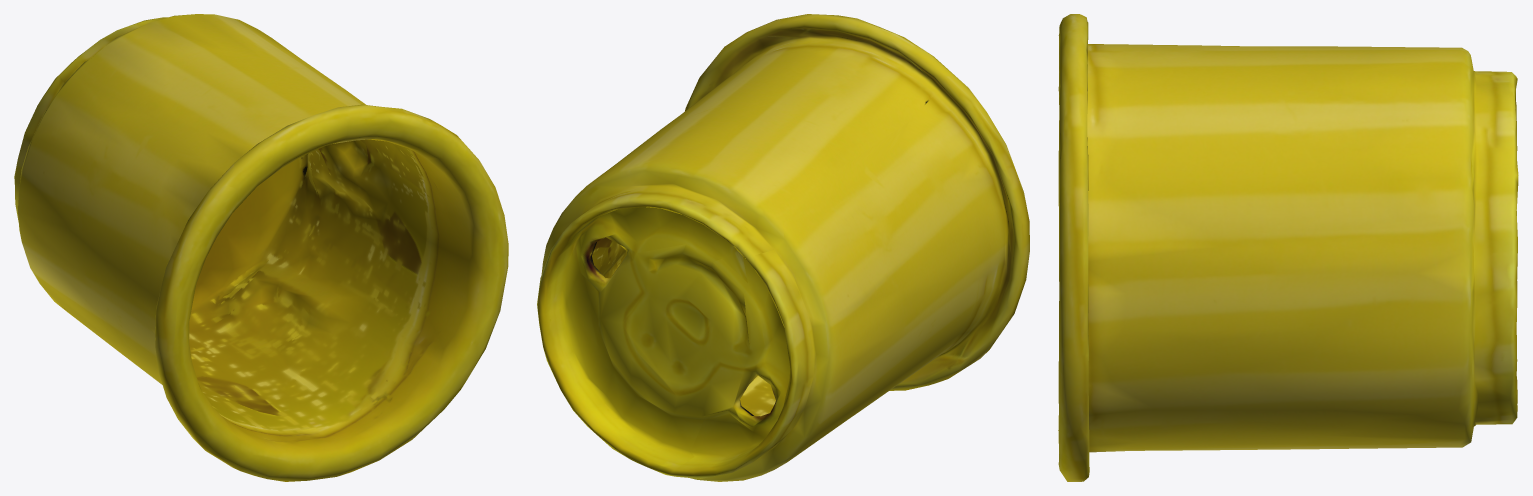
File: 065-d_cups.glb
The picture shows the model from 3 angles, left to right: view 1: azimuth 30°, elevation 25°; view 2: azimuth 150°, elevation 25°; view 3: azimuth 270°, elevation 25°; orthographic projection. The views are drawn at different scales.
Visible parts, largest first — view 1: textured.071; view 2: textured.071; view 3: textured.071.
Boxes of the visible parts, <box> form: textured.071: <box>14,14,508,481</box>; textured.071: <box>537,14,1029,481</box>; textured.071: <box>1058,14,1518,481</box>.
Bounding box in the file's own units: 0.0707 × 0.0707 × 0.0689.
1 material, 1 textured.
